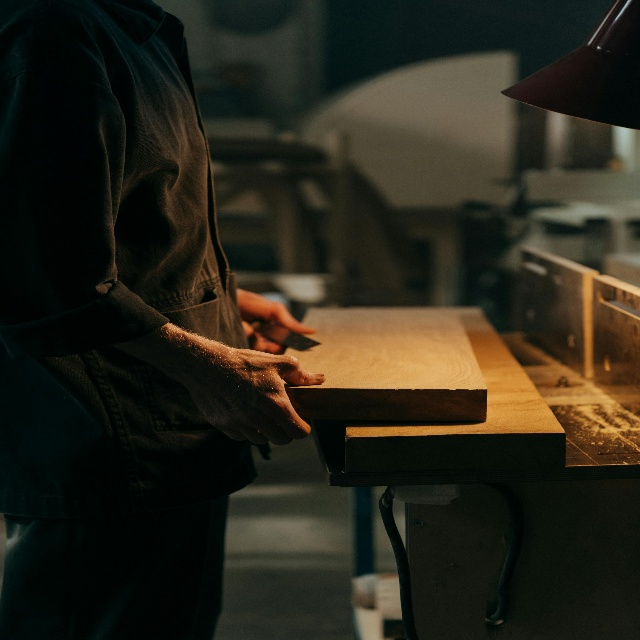Sin_guantes: (197, 341, 328, 451), (236, 285, 317, 356)
